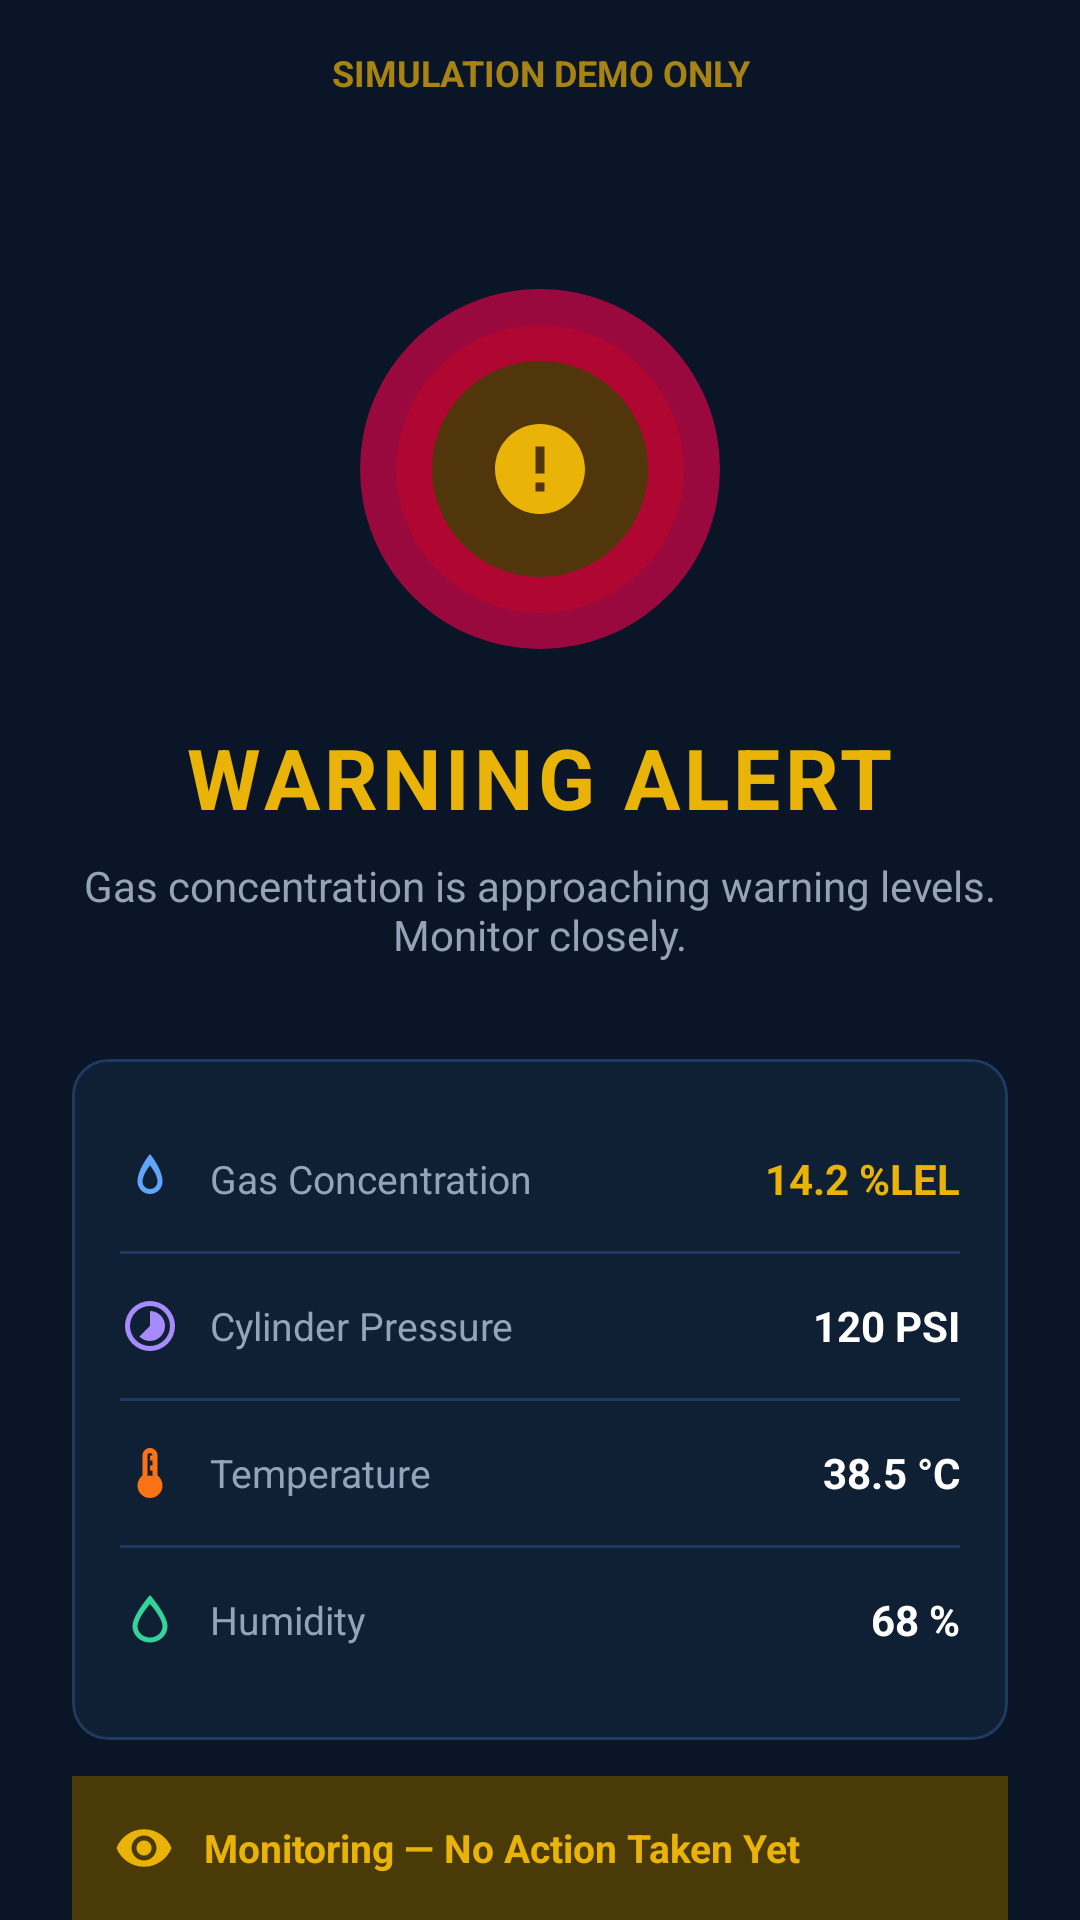

Icon bounding boxes for this 1080 x 1920 phone screenshot, format (x1, y1, x2, y2):
thermometer: (137, 1448, 163, 1498)
warning circle: (495, 424, 585, 514)
